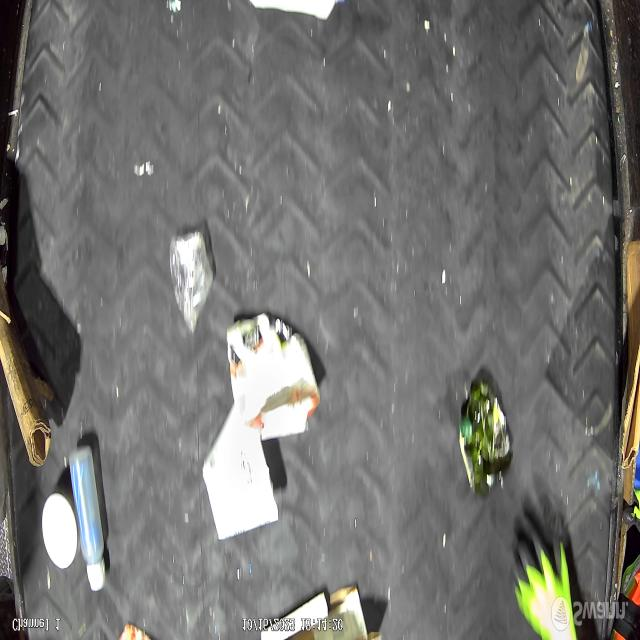non_white_jug: (226, 316, 320, 440)
plastic_bottle: (168, 229, 214, 335)
